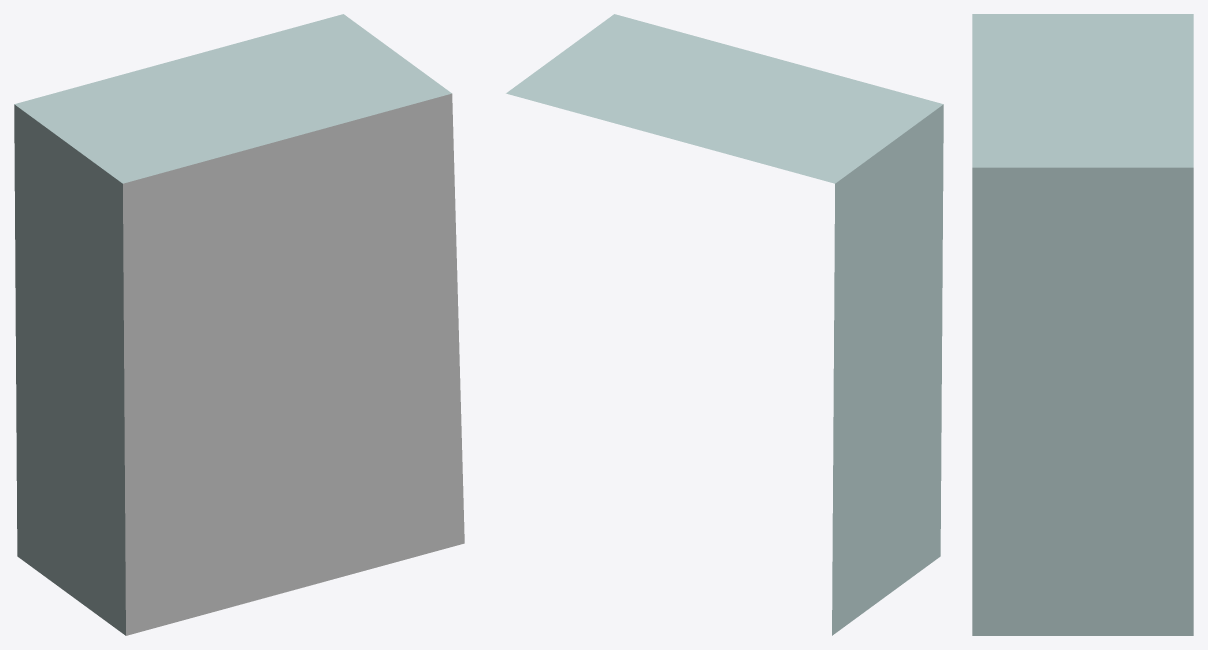
3 renders of one model, left to right at view 1: azimuth 30°, elevation 25°; view 2: azimuth 150°, elevation 25°; view 3: azimuth 270°, elevation 25°, orthographic.
Visible parts, largest first — view 1: 0_0_2_0_3_2_1_3_1; view 2: 0_0_2_0_3_2_1_3_1; view 3: 0_0_2_0_3_2_1_3_1.
Part boxes in pixels (bbox=[...]): 0_0_2_0_3_2_1_3_1: bbox=[14, 14, 464, 635]; 0_0_2_0_3_2_1_3_1: bbox=[506, 14, 943, 635]; 0_0_2_0_3_2_1_3_1: bbox=[972, 14, 1193, 635].
Bounding box in the file's own units: 5.45 × 7.05 × 3.
